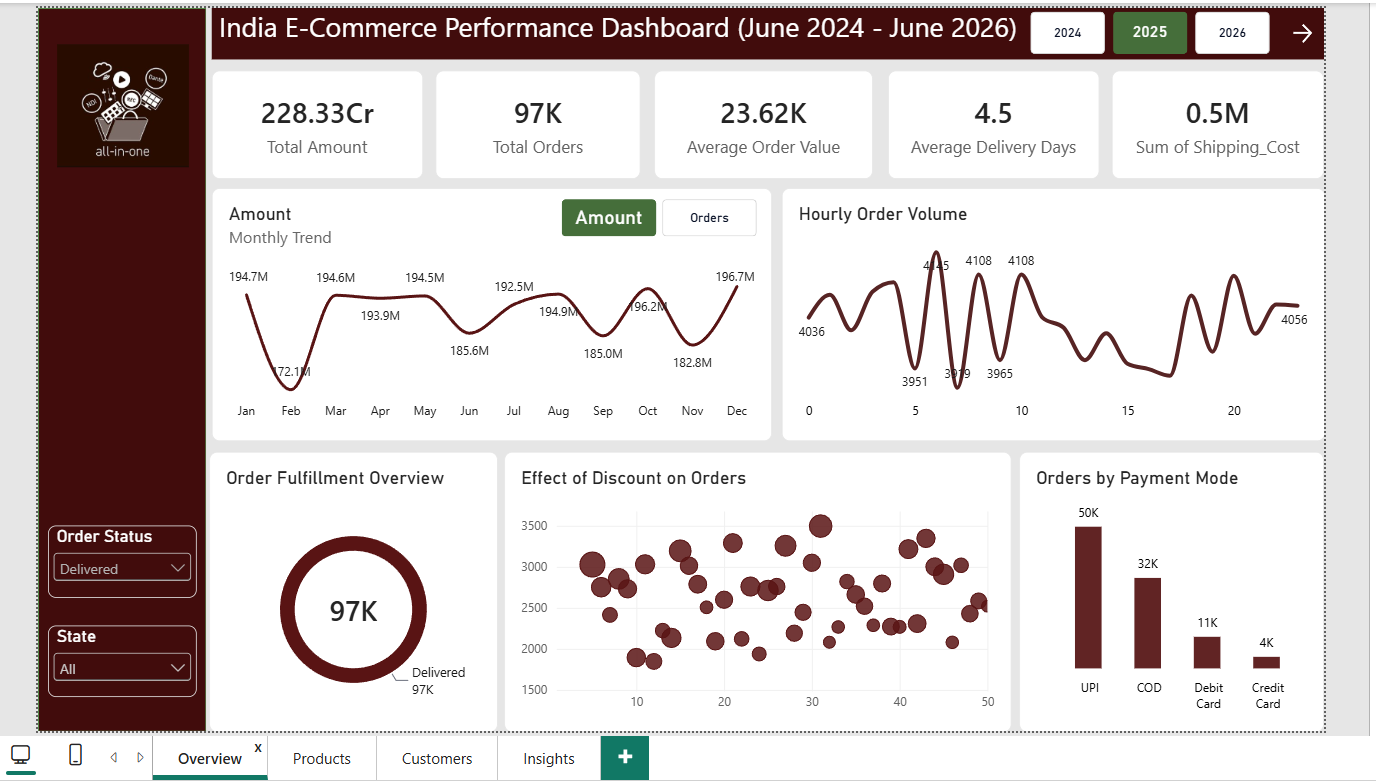

The page's visual inventory and layout, read from the dashboard file:
{"tool":"powerbi","page":{"name":"Overview","canvas":[1280,720],"ordinal":0},"visuals":[{"type":"textbox","box":[172.4,0,1107.9,51.4],"z":0},{"type":"shape","box":[0,0,167.5,720.2],"z":1000},{"type":"card","title":"Total Amount ","fields":{"Values":["sales.Total_Revenue"]},"box":[172.4,62.4,210.3,107.6],"z":2000},{"type":"card","title":"Total Amount ","fields":{"Values":["sales.Total Orders"]},"box":[396,61.9,204.2,107.6],"z":3000},{"type":"card","title":"Total Amount ","fields":{"Values":["sales.Average Order Value"]},"box":[613.9,62.4,217.7,107.6],"z":4000},{"type":"card","title":"Total Amount ","fields":{"Values":["sales.Average Delivery Days"]},"box":[846.2,62.4,210.3,107.6],"z":5000},{"type":"card","title":"Total Amount ","fields":{"Values":["Sum(sales.Shipping_Cost)"]},"box":[1068.8,62.4,211.6,107.6],"z":6000},{"type":"lineChart","fields":{"Category":["Calender.Month"],"Y":["sales.Total_Revenue"]},"box":[172.4,178.5,557.6,251.9],"z":7000},{"type":"advancedSlicerVisual","title":"Monthly Orders","fields":{"Values":["Metric Selector.Metric Selector"]},"box":[520.9,190.8,195.7,37.9],"z":8000},{"type":"advancedSlicerVisual","fields":{"Values":["Calender.Year"]},"box":[988,3.7,238.5,42.8],"z":9000},{"type":"donutChart","title":"Order Fulfillment Overview","fields":{"Category":["sales.Order_Status"],"Y":["sales.Total Orders"]},"box":[170,441.4,287.4,278.8],"z":10000},{"type":"scatterChart","title":"Effect of Discount on Orders","fields":{"Size":["sales.Total_Revenue"],"X":["products.Discount_Percent"],"Y":["Sum(sales.Quantity)"]},"box":[463.5,441.4,505,278.8],"z":11000},{"type":"columnChart","title":"Orders by Payment Mode","fields":{"Category":["sales.Payment_Mode"],"Y":["sales.Total Orders"]},"box":[977,441.4,303.3,278.8],"z":12000},{"type":"lineChart","title":"Hourly Order Volume","fields":{"Category":["sales.Hour"],"Y":["sales.Total Orders"]},"box":[739.8,178.5,540.5,251.9],"z":13000},{"type":"image","box":[17.1,35.5,134.5,122.3],"z":14000},{"type":"slicer","fields":{"Values":["sales.Order_Status"]},"box":[9.8,514.8,148,72.1],"z":15000},{"type":"slicer","fields":{"Values":["sales.State"]},"box":[9.8,615.1,148,70.9],"z":16000},{"type":"actionButton","box":[1235.1,4.9,45.2,40.4],"z":17000}]}

Visuals, with their boxes on the page's 1280x720 design canvas (x1, y1, x2, y2). These are canvas units, not pixel positions in the 1376x781 screenshot, which may show the page scaled, cropped or inside an application window:
textbox: 172/0/1280/51
shape: 0/0/168/720
"Total Amount " card: 172/62/383/170
"Total Amount " card: 396/62/600/170
"Total Amount " card: 614/62/832/170
"Total Amount " card: 846/62/1056/170
"Total Amount " card: 1069/62/1280/170
lineChart - Calender.Month x sales.Total_Revenue: 172/178/730/430
"Monthly Orders" advancedSlicerVisual: 521/191/717/229
advancedSlicerVisual - Calender.Year: 988/4/1226/46
"Order Fulfillment Overview" donutChart: 170/441/457/720
"Effect of Discount on Orders" scatterChart: 464/441/968/720
"Orders by Payment Mode" columnChart: 977/441/1280/720
"Hourly Order Volume" lineChart: 740/178/1280/430
image: 17/36/152/158
slicer - sales.Order_Status: 10/515/158/587
slicer - sales.State: 10/615/158/686
actionButton: 1235/5/1280/45
